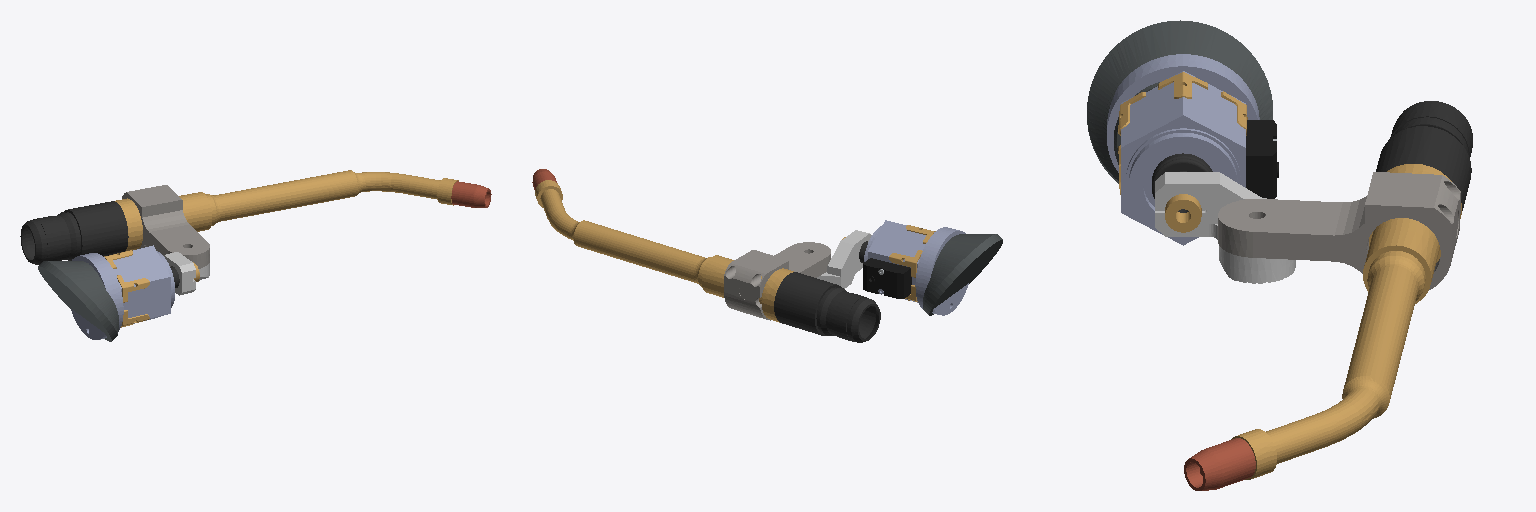
--- What the picture shows (computed from the rendered views, not written in the file) ---
The picture shows the robot from 3 angles, left to right: view 1: azimuth 30°, elevation 25°; view 2: azimuth 150°, elevation 25°; view 3: azimuth 270°, elevation 25°; orthographic projection.
Robot: robot — 13 links, 12 joints (7 revolute, 5 fixed); root link base_link; default pose: all joints at 0.
Visible links, largest first — view 1: root, link_5b, ee_joint_arm, nozzle_tip; view 2: root, link_5b, ee_joint_arm; view 3: root, link_5b, ee_joint_arm, nozzle_tip.
Link boxes in pixels (<box>): root: <box>20,170,458,327</box>; link_5b: <box>38,261,118,341</box>; ee_joint_arm: <box>71,253,123,339</box>; nozzle_tip: <box>451,181,491,207</box>; root: <box>535,180,935,342</box>; link_5b: <box>923,234,1002,315</box>; ee_joint_arm: <box>915,227,968,315</box>; root: <box>1118,71,1472,479</box>; link_5b: <box>1087,20,1272,183</box>; ee_joint_arm: <box>1107,54,1259,172</box>; nozzle_tip: <box>1184,438,1255,490</box>.
Bounding box of the posed robot: 0.9193 × 0.3851 × 0.1606 m (x, y, z).
Meshes: 36 distinct files referenced, 29 mesh visuals loaded (29 binary STL); not drawn: 7 (reference not matched to a file when rendering).

URDF robot description (robot):
<robot name="">
	<link name="base_link">
		<inertial>
			<origin rpy="0.00000 -0.00000 0.00000" xyz="0.00000 0.00000 0.00000" />
			<mass value="1.00000" />
			<inertia ixx="0.04093" ixy="0" ixz="0" iyy="0.05703" iyz="0" izz="0.09071" />
		</inertial>
		<visual>
			<origin rpy="0.00000 -0.00000 0.00000" xyz="0.00000 0.00000 0.00000" />
			<geometry>
				<mesh filename="rlbotics/envs/models/robots/abb/irb5400/meshes/irb5400/visual/base_link.stl" scale="1.00000 1.00000 1.00000" />
			</geometry>
			<material name="0">
				<color rgba="0.18824 0.19608 0.20392 1.00000" />
			</material>
		</visual>
		<collision>
			<origin rpy="0.00000 -0.00000 0.00000" xyz="0.00000 0.00000 0.00000" />
			<geometry>
				<mesh filename="rlbotics/envs/models/robots/abb/irb5400/meshes/irb5400/collision/base_link.stl" scale="1.00000 1.00000 1.00000" />
			</geometry>
		</collision>
	</link>
	<link name="link_1">
		<inertial>
			<origin rpy="0.00000 -0.00000 0.00000" xyz="0.00000 0.00000 0.00000" />
			<mass value="1.00000" />
			<inertia ixx="0.12354" ixy="0" ixz="0" iyy="0.10458" iyz="0" izz="0.15308" />
		</inertial>
		<visual>
			<origin rpy="0.00000 -0.00000 0.00000" xyz="0.00000 0.00000 0.00000" />
			<geometry>
				<mesh filename="rlbotics/envs/models/robots/abb/irb5400/meshes/irb5400/visual/link_1.stl" scale="1.00000 1.00000 1.00000" />
			</geometry>
			<material name="1">
				<color rgba="0.73725 0.34902 0.16078 1.00000" />
			</material>
		</visual>
		<collision>
			<origin rpy="0.00000 -0.00000 0.00000" xyz="0.00000 0.00000 0.00000" />
			<geometry>
				<mesh filename="rlbotics/envs/models/robots/abb/irb5400/meshes/irb5400/collision/link_1.stl" scale="1.00000 1.00000 1.00000" />
			</geometry>
		</collision>
	</link>
	<link name="link_2">
		<inertial>
			<origin rpy="0.00000 -0.00000 0.00000" xyz="0.00000 0.00000 0.00000" />
			<mass value="1.00000" />
			<inertia ixx="0.20823" ixy="0" ixz="0" iyy="0.21160" iyz="0" izz="0.02632" />
		</inertial>
		<visual>
			<origin rpy="0.00000 -0.00000 0.00000" xyz="0.00000 0.00000 0.00000" />
			<geometry>
				<mesh filename="rlbotics/envs/models/robots/abb/irb5400/meshes/irb5400/visual/link_2.stl" scale="1.00000 1.00000 1.00000" />
			</geometry>
			<material name="2">
				<color rgba="0.34510 0.36471 0.36863 1.00000" />
			</material>
		</visual>
		<collision>
			<origin rpy="0.00000 -0.00000 0.00000" xyz="0.00000 0.00000 0.00000" />
			<geometry>
				<mesh filename="rlbotics/envs/models/robots/abb/irb5400/meshes/irb5400/collision/link_2.stl" scale="1.00000 1.00000 1.00000" />
			</geometry>
		</collision>
	</link>
	<link name="link_3">
		<inertial>
			<origin rpy="0.00000 -0.00000 0.00000" xyz="0.00000 0.00000 0.00000" />
			<mass value="1.00000" />
			<inertia ixx="0.02064" ixy="0" ixz="0" iyy="0.19329" iyz="0" izz="0.18652" />
		</inertial>
		<visual>
			<origin rpy="0.00000 -0.00000 0.00000" xyz="0.00000 0.00000 0.00000" />
			<geometry>
				<mesh filename="rlbotics/envs/models/robots/abb/irb5400/meshes/irb5400/visual/link_3.stl" scale="1.00000 1.00000 1.00000" />
			</geometry>
			<material name="3">
				<color rgba="0.73725 0.34902 0.16078 1.00000" />
			</material>
		</visual>
		<collision>
			<origin rpy="0.00000 -0.00000 0.00000" xyz="0.00000 0.00000 0.00000" />
			<geometry>
				<mesh filename="rlbotics/envs/models/robots/abb/irb5400/meshes/irb5400/collision/link_3.stl" scale="1.00000 1.00000 1.00000" />
			</geometry>
		</collision>
	</link>
	<link name="link_4">
		<inertial>
			<origin rpy="0.00000 -0.00000 0.00000" xyz="0.00000 0.00000 0.00000" />
			<mass value="1.00000" />
			<inertia ixx="0.00542" ixy="0" ixz="0" iyy="0.00384" iyz="0" izz="0.00456" />
		</inertial>
		<visual>
			<origin rpy="0.00000 -0.00000 0.00000" xyz="0.00000 0.00000 0.00000" />
			<geometry>
				<mesh filename="rlbotics/envs/models/robots/abb/irb5400/meshes/irb5400/visual/link_4.stl" scale="1.00000 1.00000 1.00000" />
			</geometry>
			<material name="4">
				<color rgba="0.34510 0.36471 0.36863 1.00000" />
			</material>
		</visual>
		<collision>
			<origin rpy="0.00000 -0.00000 0.00000" xyz="0.00000 0.00000 0.00000" />
			<geometry>
				<mesh filename="rlbotics/envs/models/robots/abb/irb5400/meshes/irb5400/collision/link_4.stl" scale="1.00000 1.00000 1.00000" />
			</geometry>
		</collision>
	</link>
	<link name="link_5">
		<inertial>
			<origin rpy="0.00000 -0.00000 0.00000" xyz="0.00000 0.00000 0.00000" />
			<mass value="1.00000" />
			<inertia ixx="0.00639" ixy="0" ixz="0" iyy="0.00637" iyz="0" izz="0.00613" />
		</inertial>
		<visual>
			<origin rpy="0.00000 -0.00000 0.00000" xyz="0.00000 0.00000 0.00000" />
			<geometry>
				<mesh filename="rlbotics/envs/models/robots/abb/irb5400/meshes/irb5400/visual/link_5.stl" scale="1.00000 1.00000 1.00000" />
			</geometry>
			<material name="5">
				<color rgba="0.34510 0.36471 0.36863 1.00000" />
			</material>
		</visual>
		<collision>
			<origin rpy="0.00000 -0.00000 0.00000" xyz="0.00000 0.00000 0.00000" />
			<geometry>
				<mesh filename="rlbotics/envs/models/robots/abb/irb5400/meshes/irb5400/collision/link_5.stl" scale="1.00000 1.00000 1.00000" />
			</geometry>
		</collision>
	</link>
	<link name="link_5b">
		<inertial>
			<origin rpy="0.00000 -0.00000 0.00000" xyz="0.00000 0.00000 0.00000" />
			<mass value="1.00000" />
			<inertia ixx="0.00614" ixy="0" ixz="0" iyy="0.00382" iyz="0" izz="0.00382" />
		</inertial>
		<visual>
			<origin rpy="0.00000 -0.00000 0.00000" xyz="0.00000 0.00000 0.00000" />
			<geometry>
				<mesh filename="rlbotics/envs/models/robots/abb/irb5400/meshes/irb5400/visual/link_5b.stl" scale="1.00000 1.00000 1.00000" />
			</geometry>
			<material name="6">
				<color rgba="0.34510 0.36471 0.36863 1.00000" />
			</material>
		</visual>
		<collision>
			<origin rpy="0.00000 -0.00000 0.00000" xyz="0.00000 0.00000 0.00000" />
			<geometry>
				<mesh filename="rlbotics/envs/models/robots/abb/irb5400/meshes/irb5400/collision/link_5b.stl" scale="1.00000 1.00000 1.00000" />
			</geometry>
		</collision>
	</link>
	<link name="link_6">
		<inertial>
			<origin rpy="0.00000 -0.00000 0.00000" xyz="0.00000 0.00000 0.00000" />
			<mass value="1.00000" />
			<inertia ixx="0.00299" ixy="0" ixz="0" iyy="0.00157" iyz="0" izz="0.00158" />
		</inertial>
		<visual>
			<origin rpy="0.00000 -0.00000 0.00000" xyz="0.00000 0.00000 0.00000" />
			<geometry>
				<mesh filename="rlbotics/envs/models/robots/abb/irb5400/meshes/irb5400/visual/link_6.stl" scale="1.00000 1.00000 1.00000" />
			</geometry>
			<material name="7">
				<color rgba="0.18824 0.19608 0.20392 1.00000" />
			</material>
		</visual>
		<collision>
			<origin rpy="0.00000 -0.00000 0.00000" xyz="0.00000 0.00000 0.00000" />
			<geometry>
				<mesh filename="rlbotics/envs/models/robots/abb/irb5400/meshes/irb5400/collision/link_6.stl" scale="1.00000 1.00000 1.00000" />
			</geometry>
		</collision>
	</link>
	<link name="tool0">
		<inertial>
			<origin rpy="0.00000 -0.00000 0.00000" xyz="0.00000 0.00000 0.00000" />
			<mass value="1.00000" />
			<inertia ixx="0.00000" ixy="0" ixz="0" iyy="0.00000" iyz="0" izz="0.00000" />
		</inertial>
	</link>
	<link name="base">
		<inertial>
			<origin rpy="0.00000 -0.00000 0.00000" xyz="0.00000 0.00000 0.00000" />
			<mass value="1.00000" />
			<inertia ixx="0.00000" ixy="0" ixz="0" iyy="0.00000" iyz="0" izz="0.00000" />
		</inertial>
	</link>
	<link name="root">
		<inertial>
			<origin rpy="0.00000 -0.00000 0.00000" xyz="-0.01448 -0.00427 0.02204" />
			<mass value="10.00000" />
			<inertia ixx="0.62536" ixy="0" ixz="0" iyy="0.53801" iyz="0" izz="0.12460" />
		</inertial>
		<visual>
			<origin rpy="0.00000 -0.00000 0.00000" xyz="-0.02792 -0.00816 0.04271" />
			<geometry>
				<mesh filename="rlbotics/envs/models/end_effectors/welding/welding_torch/meshes/stl/Body1.stl" scale="0.01913 0.01913 0.01913" />
			</geometry>
			<material name="8">
				<color rgba="0.80000 0.80000 0.80000 1.00000" />
			</material>
		</visual>
		<visual>
			<origin rpy="0.00000 -0.00000 0.00000" xyz="-0.02792 -0.00816 0.04271" />
			<geometry>
				<mesh filename="rlbotics/envs/models/end_effectors/welding/welding_torch/meshes/stl/Body10.stl" scale="0.01913 0.01913 0.01913" />
			</geometry>
			<material name="9">
				<color rgba="0.80000 0.64627 0.39843 1.00000" />
			</material>
		</visual>
		<visual>
			<origin rpy="0.00000 -0.00000 0.00000" xyz="-0.02792 -0.00816 0.04271" />
			<geometry>
				<mesh filename="rlbotics/envs/models/end_effectors/welding/welding_torch/meshes/stl/Body11.stl" scale="0.01913 0.01913 0.01913" />
			</geometry>
			<material name="10">
				<color rgba="0.80000 0.64627 0.39843 1.00000" />
			</material>
		</visual>
		<visual>
			<origin rpy="0.00000 -0.00000 0.00000" xyz="-0.02792 -0.00816 0.04271" />
			<geometry>
				<mesh filename="rlbotics/envs/models/end_effectors/welding/welding_torch/meshes/stl/Body12.stl" scale="0.01913 0.01913 0.01913" />
			</geometry>
			<material name="11">
				<color rgba="0.63373 0.65569 0.74667 1.00000" />
			</material>
		</visual>
		<visual>
			<origin rpy="0.00000 -0.00000 0.00000" xyz="-0.02792 -0.00816 0.04271" />
			<geometry>
				<mesh filename="rlbotics/envs/models/end_effectors/welding/welding_torch/meshes/stl/Body13.stl" scale="0.01913 0.01913 0.01913" />
			</geometry>
			<material name="12">
				<color rgba="0.71843 0.73412 0.74353 1.00000" />
			</material>
		</visual>
		<visual>
			<origin rpy="0.00000 -0.00000 0.00000" xyz="-0.02792 -0.00816 0.04271" />
			<geometry>
				<mesh filename="rlbotics/envs/models/end_effectors/welding/welding_torch/meshes/stl/Body14.stl" scale="0.01913 0.01913 0.01913" />
			</geometry>
			<material name="13">
				<color rgba="0.63373 0.65569 0.74667 1.00000" />
			</material>
		</visual>
		<visual>
			<origin rpy="0.00000 -0.00000 0.00000" xyz="-0.02792 -0.00816 0.04271" />
			<geometry>
				<mesh filename="rlbotics/envs/models/end_effectors/welding/welding_torch/meshes/stl/Body15.stl" scale="0.01913 0.01913 0.01913" />
			</geometry>
			<material name="14">
				<color rgba="0.80000 0.64627 0.39843 1.00000" />
			</material>
		</visual>
		<visual>
			<origin rpy="0.00000 -0.00000 0.00000" xyz="-0.02792 -0.00816 0.04271" />
			<geometry>
				<mesh filename="rlbotics/envs/models/end_effectors/welding/welding_torch/meshes/stl/Body16.stl" scale="0.01913 0.01913 0.01913" />
			</geometry>
			<material name="15">
				<color rgba="0.63373 0.65569 0.74667 1.00000" />
			</material>
		</visual>
		<visual>
			<origin rpy="0.00000 -0.00000 0.00000" xyz="-0.02792 -0.00816 0.04271" />
			<geometry>
				<mesh filename="rlbotics/envs/models/end_effectors/welding/welding_torch/meshes/stl/Body17.stl" scale="0.01913 0.01913 0.01913" />
			</geometry>
			<material name="16">
				<color rgba="0.63373 0.65569 0.74667 1.00000" />
			</material>
		</visual>
		<visual>
			<origin rpy="0.00000 -0.00000 0.00000" xyz="-0.02792 -0.00816 0.04271" />
			<geometry>
				<mesh filename="rlbotics/envs/models/end_effectors/welding/welding_torch/meshes/stl/Body18.stl" scale="0.01913 0.01913 0.01913" />
			</geometry>
			<material name="17">
				<color rgba="0.63373 0.65569 0.74667 1.00000" />
			</material>
		</visual>
		<visual>
			<origin rpy="0.00000 -0.00000 0.00000" xyz="-0.02792 -0.00816 0.04271" />
			<geometry>
				<mesh filename="rlbotics/envs/models/end_effectors/welding/welding_torch/meshes/stl/Body19.stl" scale="0.01913 0.01913 0.01913" />
			</geometry>
			<material name="18">
				<color rgba="0.63373 0.65569 0.74667 1.00000" />
			</material>
		</visual>
		<visual>
			<origin rpy="0.00000 -0.00000 0.00000" xyz="-0.02792 -0.00816 0.04271" />
			<geometry>
				<mesh filename="rlbotics/envs/models/end_effectors/welding/welding_torch/meshes/stl/Body2.stl" scale="0.01913 0.01913 0.01913" />
			</geometry>
			<material name="19">
				<color rgba="0.54902 0.48627 0.42353 1.00000" />
			</material>
		</visual>
		<visual>
			<origin rpy="0.00000 -0.00000 0.00000" xyz="-0.02792 -0.00816 0.04271" />
			<geometry>
				<mesh filename="rlbotics/envs/models/end_effectors/welding/welding_torch/meshes/stl/Body20.stl" scale="0.01913 0.01913 0.01913" />
			</geometry>
			<material name="20">
				<color rgba="0.63373 0.65569 0.74667 1.00000" />
			</material>
		</visual>
		<visual>
			<origin rpy="0.00000 -0.00000 0.00000" xyz="-0.02792 -0.00816 0.04271" />
			<geometry>
				<mesh filename="rlbotics/envs/models/end_effectors/welding/welding_torch/meshes/stl/Body21.stl" scale="0.01913 0.01913 0.01913" />
			</geometry>
			<material name="21">
				<color rgba="0.80000 0.64627 0.39843 1.00000" />
			</material>
		</visual>
		<visual>
			<origin rpy="0.00000 -0.00000 0.00000" xyz="-0.02792 -0.00816 0.04271" />
			<geometry>
				<mesh filename="rlbotics/envs/models/end_effectors/welding/welding_torch/meshes/stl/Body23.stl" scale="0.01913 0.01913 0.01913" />
			</geometry>
			<material name="22">
				<color rgba="0.23843 0.23843 0.23843 1.00000" />
			</material>
		</visual>
		<visual>
			<origin rpy="0.00000 -0.00000 0.00000" xyz="-0.02792 -0.00816 0.04271" />
			<geometry>
				<mesh filename="rlbotics/envs/models/end_effectors/welding/welding_torch/meshes/stl/Body24.stl" scale="0.01913 0.01913 0.01913" />
			</geometry>
			<material name="23">
				<color rgba="0.80000 0.64627 0.39843 1.00000" />
			</material>
		</visual>
		<visual>
			<origin rpy="0.00000 -0.00000 0.00000" xyz="-0.02792 -0.00816 0.04271" />
			<geometry>
				<mesh filename="rlbotics/envs/models/end_effectors/welding/welding_torch/meshes/stl/Body25.stl" scale="0.01913 0.01913 0.01913" />
			</geometry>
			<material name="24">
				<color rgba="0.23843 0.23843 0.23843 1.00000" />
			</material>
		</visual>
		<visual>
			<origin rpy="0.00000 -0.00000 0.00000" xyz="-0.02792 -0.00816 0.04271" />
			<geometry>
				<mesh filename="rlbotics/envs/models/end_effectors/welding/welding_torch/meshes/stl/Body26.stl" scale="0.01913 0.01913 0.01913" />
			</geometry>
			<material name="25">
				<color rgba="0.62118 0.55843 0.51137 1.00000" />
			</material>
		</visual>
		<visual>
			<origin rpy="0.00000 -0.00000 0.00000" xyz="-0.02792 -0.00816 0.04271" />
			<geometry>
				<mesh filename="rlbotics/envs/models/end_effectors/welding/welding_torch/meshes/stl/Body27.stl" scale="0.01913 0.01913 0.01913" />
			</geometry>
			<material name="26">
				<color rgba="0.67137 0.37333 0.29490 1.00000" />
			</material>
		</visual>
		<visual>
			<origin rpy="0.00000 -0.00000 0.00000" xyz="-0.02792 -0.00816 0.04271" />
			<geometry>
				<mesh filename="rlbotics/envs/models/end_effectors/welding/welding_torch/meshes/stl/Body3.stl" scale="0.01913 0.01913 0.01913" />
			</geometry>
			<material name="27">
				<color rgba="0.62118 0.60549 0.58980 1.00000" />
			</material>
		</visual>
		<visual>
			<origin rpy="0.00000 -0.00000 0.00000" xyz="-0.02792 -0.00816 0.04271" />
			<geometry>
				<mesh filename="rlbotics/envs/models/end_effectors/welding/welding_torch/meshes/stl/Body4.stl" scale="0.01913 0.01913 0.01913" />
			</geometry>
			<material name="28">
				<color rgba="0.80000 0.62431 0.52706 1.00000" />
			</material>
		</visual>
		<visual>
			<origin rpy="0.00000 -0.00000 0.00000" xyz="-0.02792 -0.00816 0.04271" />
			<geometry>
				<mesh filename="rlbotics/envs/models/end_effectors/welding/welding_torch/meshes/stl/Body5.stl" scale="0.01913 0.01913 0.01913" />
			</geometry>
			<material name="29">
				<color rgba="0.63373 0.65569 0.74667 1.00000" />
			</material>
		</visual>
		<visual>
			<origin rpy="0.00000 -0.00000 0.00000" xyz="-0.02792 -0.00816 0.04271" />
			<geometry>
				<mesh filename="rlbotics/envs/models/end_effectors/welding/welding_torch/meshes/stl/Body6.stl" scale="0.01913 0.01913 0.01913" />
			</geometry>
			<material name="30">
				<color rgba="0.16000 0.16000 0.16000 1.00000" />
			</material>
		</visual>
		<visual>
			<origin rpy="0.00000 -0.00000 0.00000" xyz="-0.02792 -0.00816 0.04271" />
			<geometry>
				<mesh filename="rlbotics/envs/models/end_effectors/welding/welding_torch/meshes/stl/Body7.stl" scale="0.01913 0.01913 0.01913" />
			</geometry>
			<material name="31">
				<color rgba="0.80000 0.64627 0.39843 1.00000" />
			</material>
		</visual>
		<visual>
			<origin rpy="0.00000 -0.00000 0.00000" xyz="-0.02792 -0.00816 0.04271" />
			<geometry>
				<mesh filename="rlbotics/envs/models/end_effectors/welding/welding_torch/meshes/stl/Body8.stl" scale="0.01913 0.01913 0.01913" />
			</geometry>
			<material name="32">
				<color rgba="0.80000 0.64627 0.39843 1.00000" />
			</material>
		</visual>
		<visual>
			<origin rpy="0.00000 -0.00000 0.00000" xyz="-0.02792 -0.00816 0.04271" />
			<geometry>
				<mesh filename="rlbotics/envs/models/end_effectors/welding/welding_torch/meshes/stl/Body9.stl" scale="0.01913 0.01913 0.01913" />
			</geometry>
			<material name="33">
				<color rgba="0.80000 0.64627 0.39843 1.00000" />
			</material>
		</visual>
		<collision>
			<origin rpy="0.00000 -0.00000 0.00000" xyz="-0.02694 -0.00899 0.04304" />
			<geometry>
				<mesh filename="rlbotics/envs/models/end_effectors/welding/welding_torch/meshes/stl/Body1.001.stl" scale="1.91308 1.91308 1.91308" />
			</geometry>
		</collision>
		<collision>
			<origin rpy="0.00000 -0.00000 0.00000" xyz="-0.03031 -0.00834 0.04250" />
			<geometry>
				<mesh filename="rlbotics/envs/models/end_effectors/welding/welding_torch/meshes/stl/Body23.001.stl" scale="1.91308 1.91308 1.91308" />
			</geometry>
		</collision>
		<collision>
			<origin rpy="0.00000 -0.00000 0.00000" xyz="-0.02830 -0.00808 0.04410" />
			<geometry>
				<mesh filename="rlbotics/envs/models/end_effectors/welding/welding_torch/meshes/stl/Body24.001.stl" scale="1.91308 1.91308 1.91308" />
			</geometry>
		</collision>
		<collision>
			<origin rpy="0.00000 -0.00000 0.00000" xyz="-0.02798 -0.00886 0.05092" />
			<geometry>
				<mesh filename="rlbotics/envs/models/end_effectors/welding/welding_torch/meshes/stl/Body25.001.stl" scale="1.91308 1.91308 1.91308" />
			</geometry>
		</collision>
		<collision>
			<origin rpy="0.00000 -0.00000 0.00000" xyz="-0.02695 -0.00714 0.04028" />
			<geometry>
				<mesh filename="rlbotics/envs/models/end_effectors/welding/welding_torch/meshes/stl/Body3.001.stl" scale="1.91308 1.91308 1.91308" />
			</geometry>
		</collision>
		<collision>
			<origin rpy="0.00000 -0.00000 0.00000" xyz="-0.02659 -0.00839 0.04212" />
			<geometry>
				<mesh filename="rlbotics/envs/models/end_effectors/welding/welding_torch/meshes/stl/Body5.001.stl" scale="1.91308 1.91308 1.91308" />
			</geometry>
		</collision>
		<collision>
			<origin rpy="0.00000 -0.00000 0.00000" xyz="-0.02771 -0.00796 0.04287" />
			<geometry>
				<mesh filename="rlbotics/envs/models/end_effectors/welding/welding_torch/meshes/stl/Body6.001.stl" scale="1.91308 1.91308 1.91308" />
			</geometry>
		</collision>
	</link>
	<link name="ee_joint_arm">
		<inertial>
			<origin rpy="0.00000 -0.00000 0.00000" xyz="-0.01458 -0.00585 0.05244" />
			<mass value="2.00000" />
			<inertia ixx="0.00442" ixy="0" ixz="0" iyy="0.00442" iyz="0" izz="0.00843" />
		</inertial>
		<visual>
			<origin rpy="0.00000 -0.00000 0.00000" xyz="-0.02797 -0.01121 0.09982" />
			<geometry>
				<mesh filename="rlbotics/envs/models/end_effectors/welding/welding_torch/meshes/stl/Body22.stl" scale="0.01913 0.01913 0.01913" />
			</geometry>
			<material name="34">
				<color rgba="0.63373 0.65569 0.74667 1.00000" />
			</material>
		</visual>
		<collision>
			<origin rpy="0.00000 -0.00000 0.00000" xyz="-0.02788 -0.01119 0.10032" />
			<geometry>
				<mesh filename="rlbotics/envs/models/end_effectors/welding/welding_torch/meshes/stl/Body22.001.stl" scale="1.91308 1.91308 1.91308" />
			</geometry>
		</collision>
	</link>
	<link name="nozzle_tip">
		<inertial>
			<origin rpy="0.00000 -0.00000 0.00000" xyz="-0.01570 -0.30904 -0.22158" />
			<mass value="2.00000" />
			<inertia ixx="0.00381" ixy="0" ixz="0" iyy="0.00232" iyz="0" izz="0.00228" />
		</inertial>
		<visual>
			<origin rpy="-0.92502 0.00000 0.00000" xyz="-0.02985 -0.59008 -0.41691" />
			<geometry>
				<mesh filename="rlbotics/envs/models/end_effectors/welding/welding_torch/meshes/stl/Body28.stl" scale="0.01913 0.01913 0.01913" />
			</geometry>
			<material name="35">
				<color rgba="0.67137 0.37333 0.29490 1.00000" />
			</material>
		</visual>
		<collision>
			<origin rpy="-0.92502 0.00000 0.00000" xyz="-0.03004 -0.59122 -0.42390" />
			<geometry>
				<mesh filename="rlbotics/envs/models/end_effectors/welding/welding_torch/meshes/stl/Body28.001.stl" scale="1.91308 1.91308 1.91308" />
			</geometry>
		</collision>
	</link>
	<joint name="joint1" type="revolute">
		<parent link="base_link" />
		<child link="link_1" />
		<dynamics damping="0.0" friction="0.0" />
		<origin rpy="0.00000 -0.00000 0.00000" xyz="0.00000 0.00000 0.00000" />
		<axis xyz="0.00000 0.00000 1.00000" />
	<limit effort="100.0" lower="-2.617" upper="2.617" velocity="2.3911" /></joint>
	<joint name="joint2" type="revolute">
		<parent link="link_1" />
		<child link="link_2" />
		<dynamics damping="0.0" friction="0.0" />
		<origin rpy="0.00000 -0.00000 0.00000" xyz="0.30000 0.00000 0.66000" />
		<axis xyz="0.00000 1.00000 0.00000" />
	<limit effort="100.0" lower="-1.396" upper="1.396" velocity="2.3911" /></joint>
	<joint name="joint3" type="revolute">
		<parent link="link_2" />
		<child link="link_3" />
		<dynamics damping="0.0" friction="0.0" />
		<origin rpy="0.00000 -0.00000 0.00000" xyz="0.00000 0.00000 1.20000" />
		<axis xyz="0.00000 1.00000 0.00000" />
	<limit effort="100.0" lower="-1.308" upper="1.308" velocity="2.3911" /></joint>
	<joint name="joint4" type="revolute">
		<parent link="link_3" />
		<child link="link_4" />
		<dynamics damping="0.0" friction="0.0" />
		<origin rpy="0.00000 -0.00000 0.00000" xyz="1.33900 0.00000 0.18600" />
		<axis xyz="1.00000 0.00000 0.00000" />
	<limit effort="100.0" lower="-6.0" upper="6.0" velocity="8.1157" /></joint>
	<joint name="joint5" type="revolute">
		<parent link="link_4" />
		<child link="link_5" />
		<dynamics damping="0.0" friction="0.0" />
		<origin rpy="0.00000 0.61090 0.00000" xyz="0.06930 0.00000 0.00000" />
		<axis xyz="1.00000 0.00000 0.00000" />
	<limit effort="100.0" lower="-6.0" upper="6.0" velocity="6.1086" /></joint>
	<joint name="joint5b" type="revolute">
		<parent link="link_5" />
		<child link="link_5b" />
		<dynamics damping="0.0" friction="0.0" />
		<origin rpy="0.00000 -1.22170 0.00000" xyz="0.10625 0.00000 0.07439" />
		<axis xyz="1.00000 0.00000 0.00000" />
	<limit effort="100.0" lower="-6.0" upper="6.0" velocity="6.1086" /></joint>
	<joint name="joint6" type="revolute">
		<parent link="link_5b" />
		<child link="link_6" />
		<dynamics damping="0.0" friction="0.0" />
		<origin rpy="0.00000 0.61090 0.00000" xyz="0.06720 0.00000 -0.04700" />
		<axis xyz="1.00000 0.00000 0.00000" />
	<limit effort="100.0" lower="-6.0" upper="6.0" velocity="9.3375" /></joint>
	<joint name="joint_6-tool0" type="fixed">
		<parent link="link_6" />
		<child link="tool0" />
		<dynamics damping="1.0" friction="0.0001" />
		<origin rpy="0.00000 1.57080 -0.00000" xyz="0.00000 0.00000 0.00000" />
		<axis xyz="0.00000 0.00000 0.00000" />
	</joint>
	<joint name="base_link-base" type="fixed">
		<parent link="base_link" />
		<child link="base" />
		<dynamics damping="1.0" friction="0.0001" />
		<origin rpy="0.00000 -0.00000 0.00000" xyz="0.00000 0.00000 0.00000" />
		<axis xyz="0.00000 0.00000 0.00000" />
	</joint>
	<joint name="joint_dummy1" type="fixed">
		<parent link="link_6" />
		<child link="root" />
		<dynamics damping="1.0" friction="0.0001" />
		<origin rpy="0.00000 1.57080 0.00000" xyz="0.00000 0.00000 0.00000" />
		<axis xyz="0.00000 0.00000 1.00000" />
	</joint>
	<joint name="ee_joint_arm" type="fixed">
		<parent link="root" />
		<child link="ee_joint_arm" />
		<dynamics damping="1.0" friction="0.0001" />
		<origin rpy="0.00000 -0.00000 0.00000" xyz="0.00005 0.00304 -0.05711" />
		<axis xyz="0.00000 0.00000 0.00000" />
	</joint>
	<joint name="nozzle_tip" type="fixed">
		<parent link="root" />
		<child link="nozzle_tip" />
		<dynamics damping="1.0" friction="0.0001" />
		<origin rpy="0.92502 -0.00000 0.00000" xyz="0.00193 0.01399 0.76487" />
		<axis xyz="0.00000 0.00000 0.00000" />
	</joint>
</robot>
